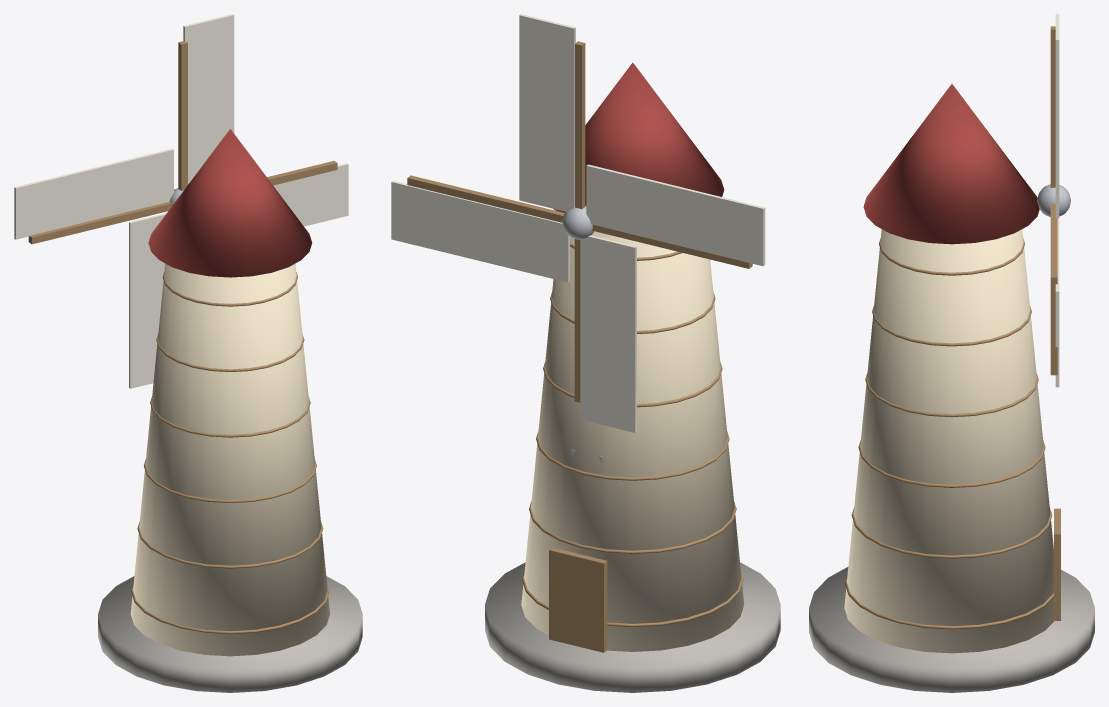
The model's file is world_windmill.glb.
3 views of the same model, side by side, from view 1: azimuth 30°, elevation 25°; view 2: azimuth 150°, elevation 25°; view 3: azimuth 270°, elevation 25° (orthographic). The views are drawn at different scales.
Visible parts, largest first — view 1: body, Blades; view 2: body, Blades; view 3: body, Blades.
Boxes of the visible parts, x1,y1,x2,y2 form: body: [98, 129, 362, 692]; Blades: [14, 14, 348, 388]; body: [485, 62, 780, 692]; Blades: [391, 14, 765, 432]; body: [809, 84, 1094, 692]; Blades: [1037, 14, 1070, 387].
Bounding box in the file's own units: 6.1 × 10.05 × 4.2.
